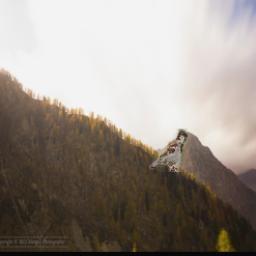Sparrow: (150, 129, 189, 172)
